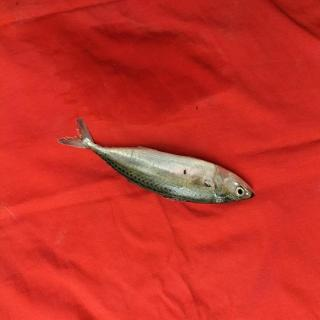Ikan: (59, 101, 259, 225)
